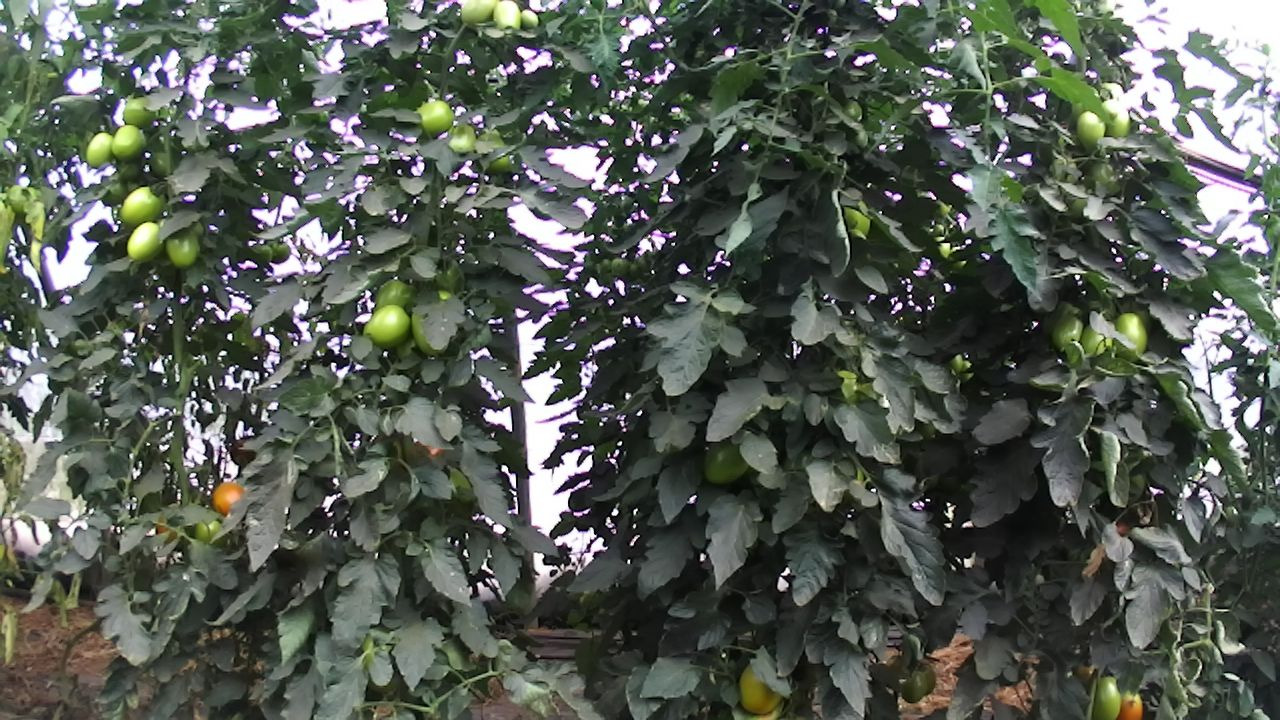tomato: (736, 660, 783, 716), (702, 434, 748, 485), (363, 303, 412, 349), (1113, 311, 1148, 363), (125, 219, 165, 263), (412, 98, 455, 138), (120, 186, 162, 225), (1091, 673, 1124, 720), (1049, 311, 1084, 353), (1098, 95, 1131, 139), (210, 477, 246, 517), (166, 228, 201, 268), (1075, 110, 1106, 152), (115, 120, 143, 162), (898, 669, 929, 704), (491, 0, 524, 32), (122, 97, 158, 126), (458, 0, 499, 25), (1117, 687, 1145, 720), (86, 132, 112, 167), (519, 7, 540, 30)
